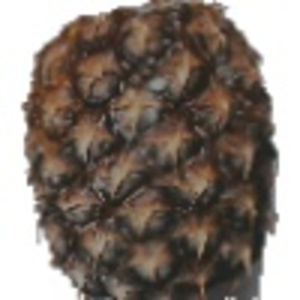abacaxi: (19, 2, 281, 299)
